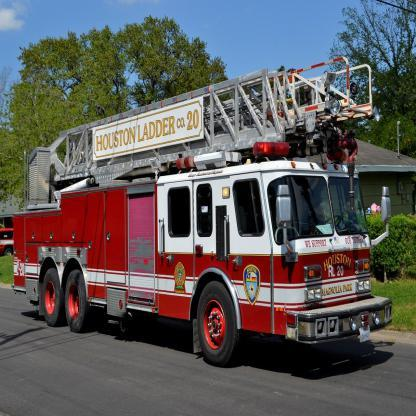fire-truck: (14, 33, 414, 368)
